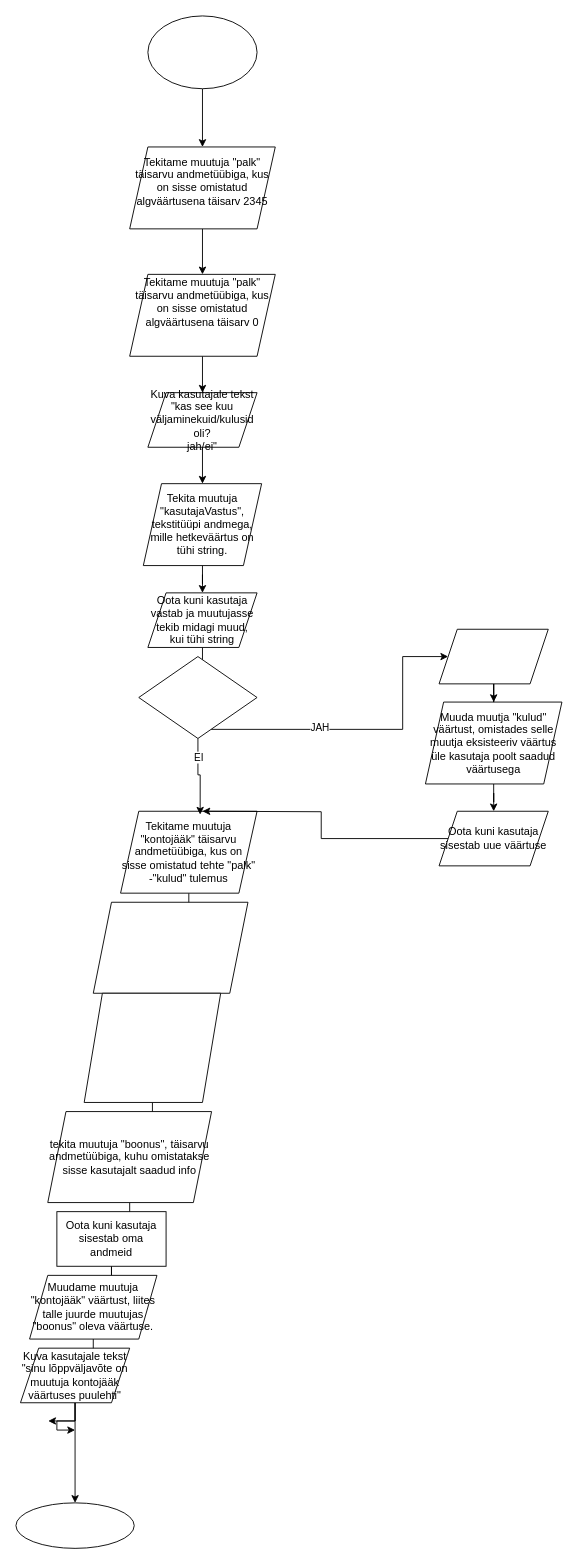
The diagram is 578 pixels wide and 1564 high, and some of its shapes have lost their labels. The centre of each missing label's shape, as x and y in pixels:
Algus: (202,52)
Kas kasutaja sisestatud väärtus muutujasse "kasutajaVastus" on "jah?": (197,697)
Kuva kasutajale tekst "Sisesta kõik kulutused ühe arvuna": (493,656)
Kuva kasutajale tekst" Palun sisesta oma hästi tehtud töö boonus": (152,1047)
Kuva kasutajale, muutuja "kontojääk" väärtus, koos tekstiga "puulehte on alles": (170,947)
Lõpp: (74,1525)
